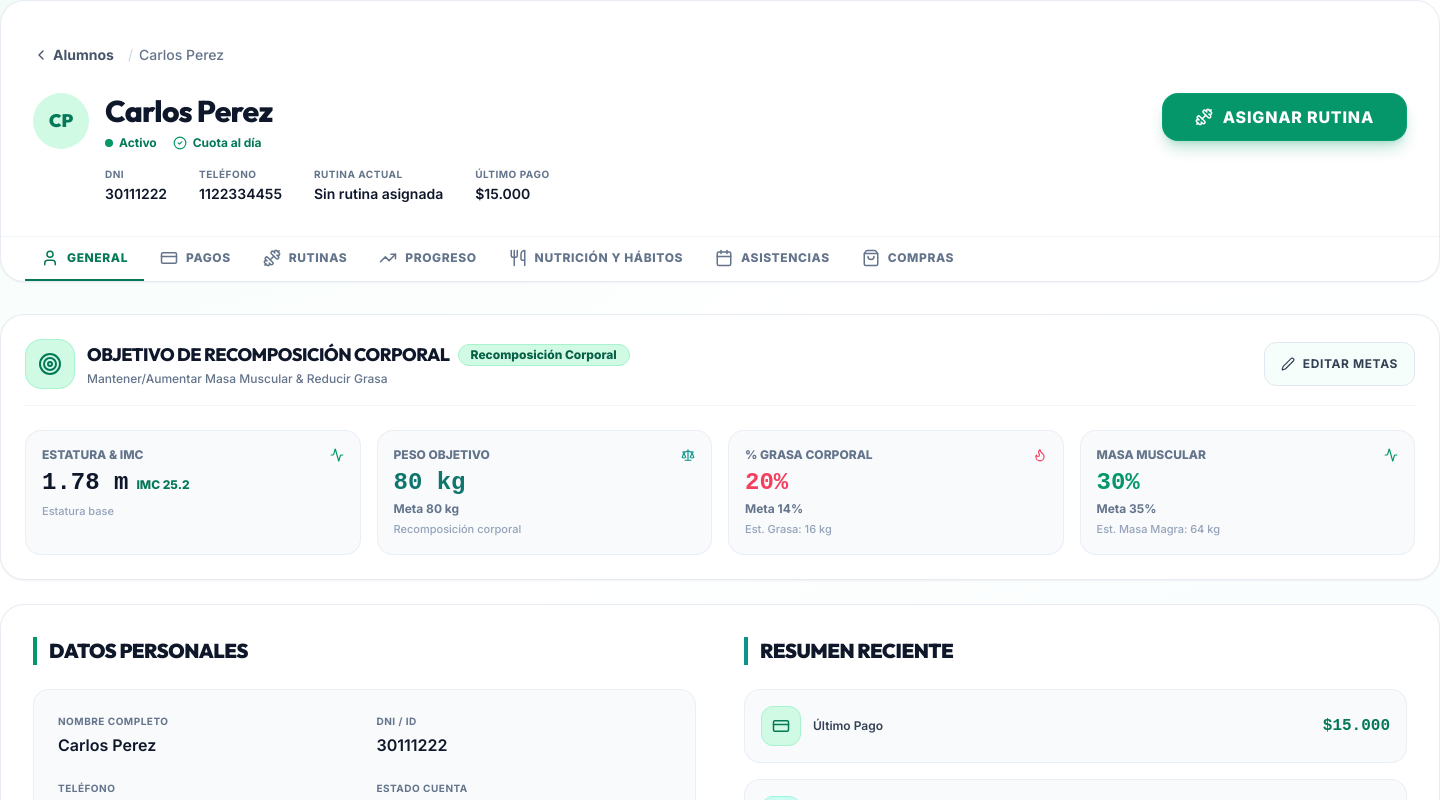
Scenario: ClientDetailPage - pestañas (AC-0007-06) › las 7 pestañas están presentes y clic en "Pagos" muestra el contenido y la marca como activa
Expected: the heading "Carlos Perez" is shown, [105, 92, 272, 130]
Expected: the tab "General" is shown, [25, 237, 144, 281]
Click the tab "Pagos".
click(195, 259)  # box [144, 237, 247, 281]
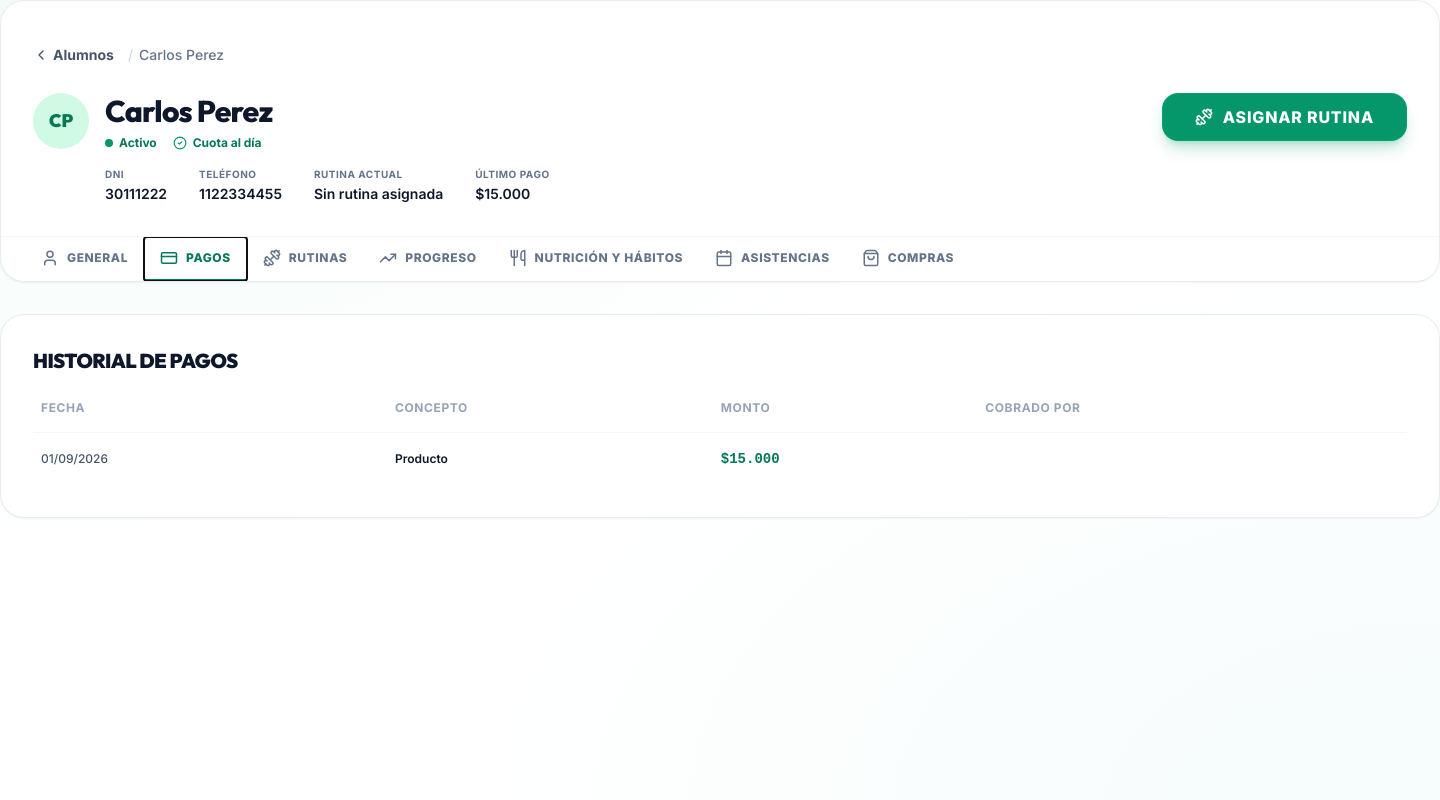
Expected: the heading "Historial de Pagos" is shown, [33, 347, 238, 375]
